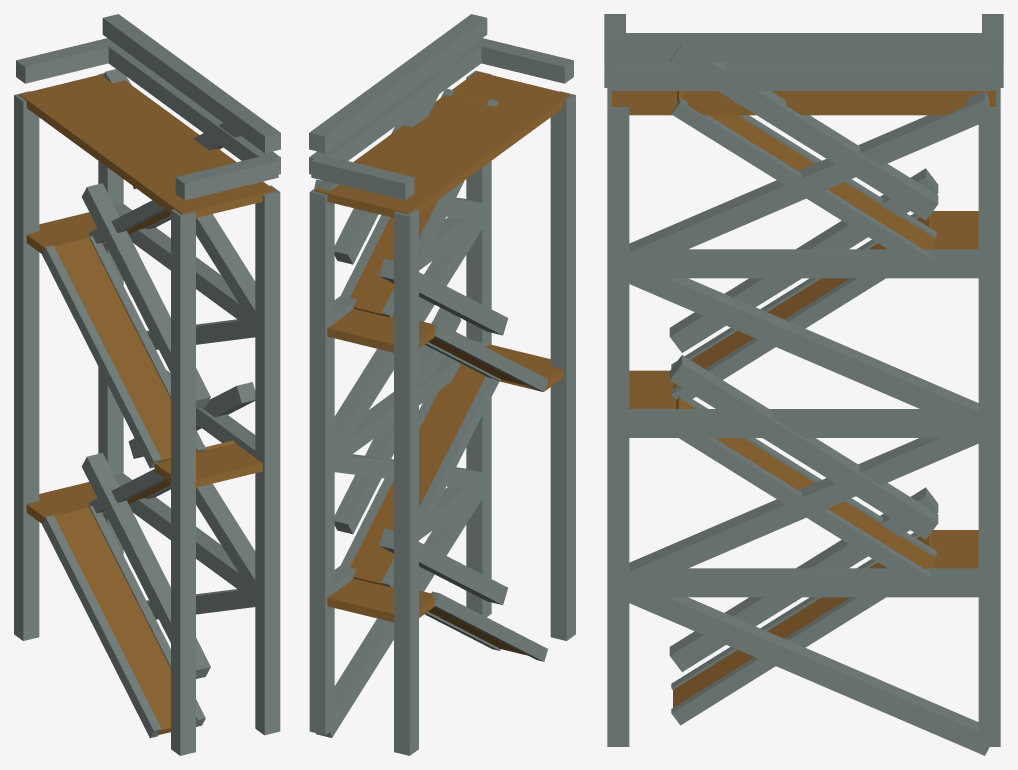
File: SM_EscaleraAzotea_v3_Andamio_LOD1.fbx
3 renders of one model, left to right at view 1: azimuth 30°, elevation 25°; view 2: azimuth 150°, elevation 25°; view 3: azimuth 270°, elevation 25°, orthographic. The views are drawn at different scales.
Parts seen in each view (by area): view 1: SM_escalera_azotea_v3_LOD1; view 2: SM_escalera_azotea_v3_LOD1; view 3: SM_escalera_azotea_v3_LOD1.
Part boxes in pixels (left/top/right/bottom): SM_escalera_azotea_v3_LOD1: left=14, top=14, right=280, bottom=755; SM_escalera_azotea_v3_LOD1: left=309, top=14, right=575, bottom=755; SM_escalera_azotea_v3_LOD1: left=604, top=14, right=1003, bottom=755.
Size of the model in its own units: 2.22 by 12.32 by 6.24.
